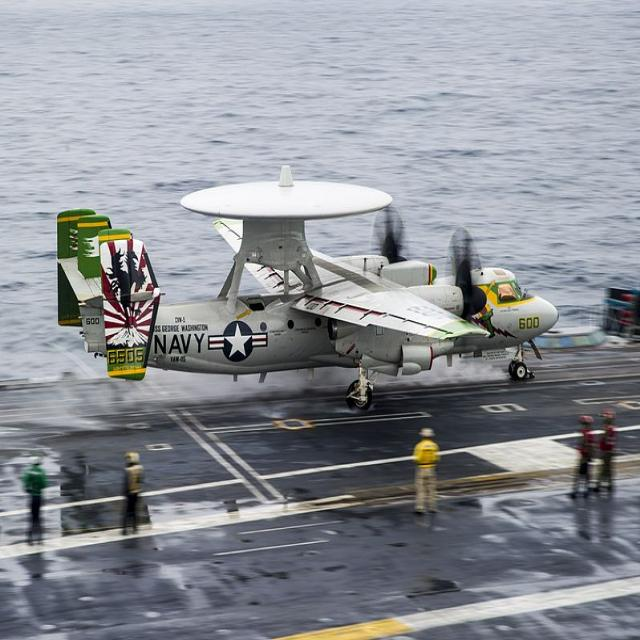MIL_Plane: (57, 165, 559, 412)
